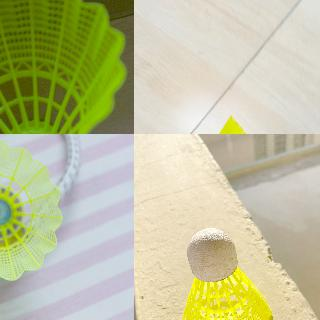shuttlecock: (0, 0, 126, 133), (0, 139, 62, 282), (181, 227, 271, 319), (206, 114, 249, 133)
